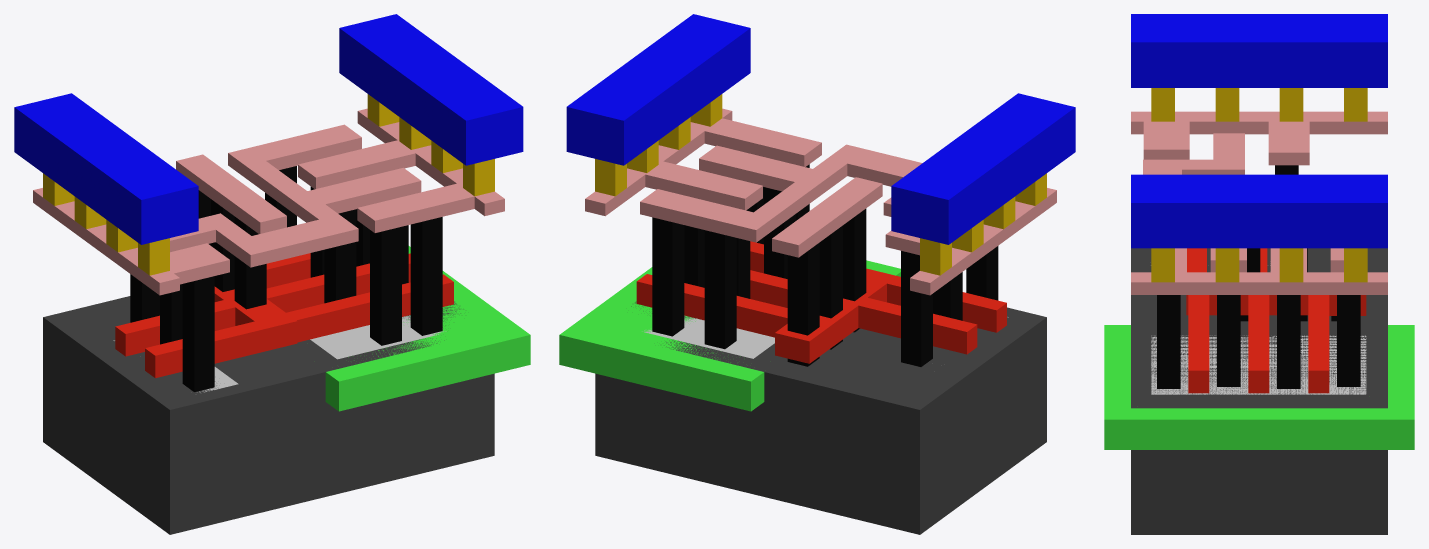
File: sky130_fd_sc_hd__clkinv_2.obj
3 renders of one model, left to right at view 1: azimuth 30°, elevation 25°; view 2: azimuth 150°, elevation 25°; view 3: azimuth 270°, elevation 25°, orthographic.
Visible parts, largest first — view 1: subs, metal1, li, licon, poly, nwell, mcon, tap; view 2: subs, metal1, li, licon, nwell, poly, mcon, tap; view 3: metal1, subs, nwell, li, licon, poly, mcon, tap.
Part boxes in pixels (x1,y1,x2,y2): subs: (43, 296, 494, 534); metal1: (14, 14, 523, 244); li: (33, 108, 504, 295); licon: (130, 166, 442, 392); poly: (115, 253, 453, 378); nwell: (325, 246, 530, 411); mcon: (43, 94, 494, 275); tap: (310, 315, 446, 359); subs: (595, 301, 1046, 534); metal1: (566, 14, 1075, 244); li: (585, 108, 1056, 295); licon: (652, 164, 998, 366); nwell: (559, 260, 900, 411); poly: (636, 241, 1006, 363); mcon: (595, 94, 1046, 275); tap: (642, 316, 774, 358); metal1: (1131, 14, 1387, 248); subs: (1131, 248, 1387, 534); nwell: (1104, 325, 1414, 449); li: (1131, 111, 1387, 294); licon: (1157, 165, 1360, 388); poly: (1186, 248, 1366, 393); mcon: (1151, 88, 1367, 282); tap: (1151, 335, 1366, 394).
Bounding box in the file's own units: 3.2 × 2.74 × 2.22.
